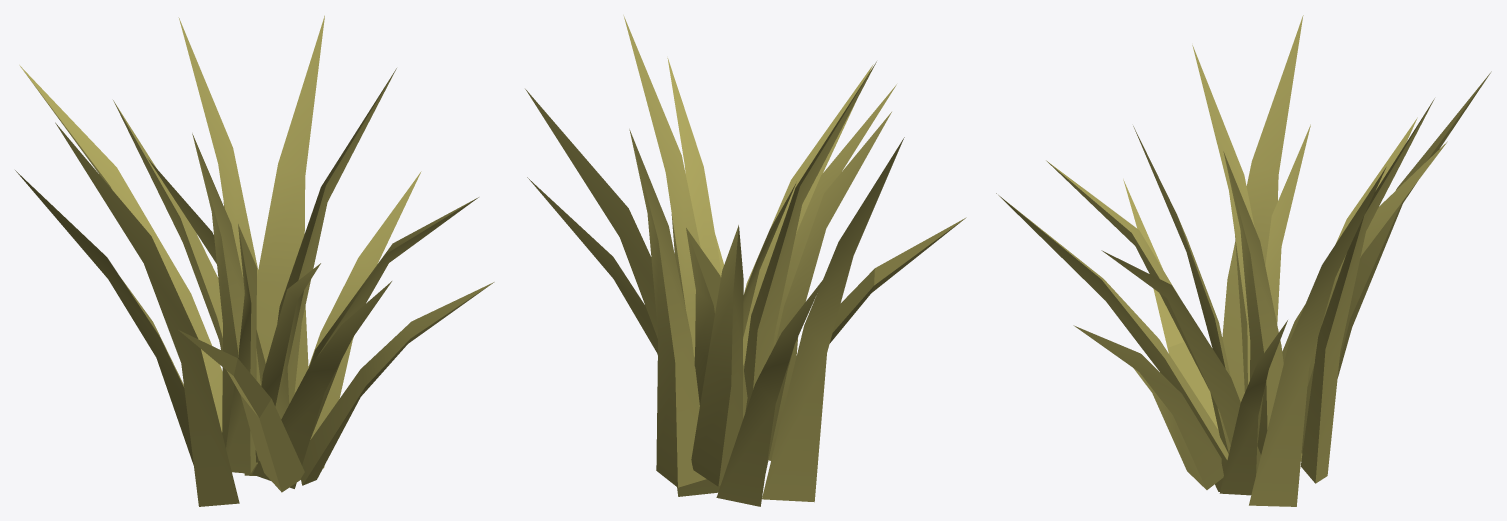
Rendered from Grass3.fbx.
3 renders of one model, left to right at view 1: azimuth 30°, elevation 25°; view 2: azimuth 150°, elevation 25°; view 3: azimuth 270°, elevation 25°, orthographic. The views are drawn at different scales.
Parts seen in each view (by area): view 1: GrassC; view 2: GrassC; view 3: GrassC.
Part boxes in pixels (x1,y1,x2,y2): GrassC: (15,15,494,506); GrassC: (525,15,966,506); GrassC: (996,15,1491,506).
Size of the model in its own units: 103 by 109 by 123.
